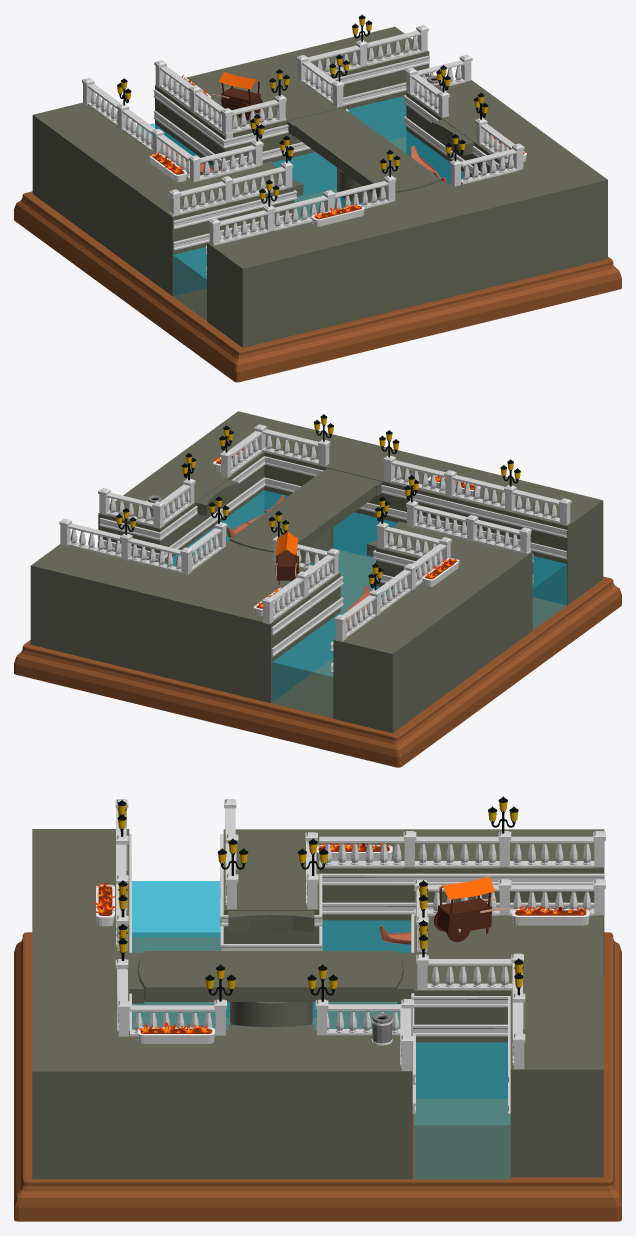
File: Level2.FBX
The picture shows the model from 3 angles, top to bottom: view 1: azimuth 30°, elevation 25°; view 2: azimuth 150°, elevation 25°; view 3: azimuth 270°, elevation 25°; orthographic projection. The views are drawn at different scales.
Parts seen in each view (by area): view 1: Cylinder147, Object139; view 2: Cylinder147, Object139; view 3: Cylinder147, Object139.
Part boxes in pixels (x1=…): Cylinder147: x1=14, y1=14, x2=621, y2=382; Object139: x1=294, y1=111, x2=440, y2=197; Cylinder147: x1=14, y1=411, x2=621, y2=767; Object139: x1=229, y1=471, x2=376, y2=552; Cylinder147: x1=14, y1=796, x2=621, y2=1221; Object139: x1=138, y1=951, x2=402, y2=1001.
Bounding box in the file's own units: 336 × 130 × 336.
